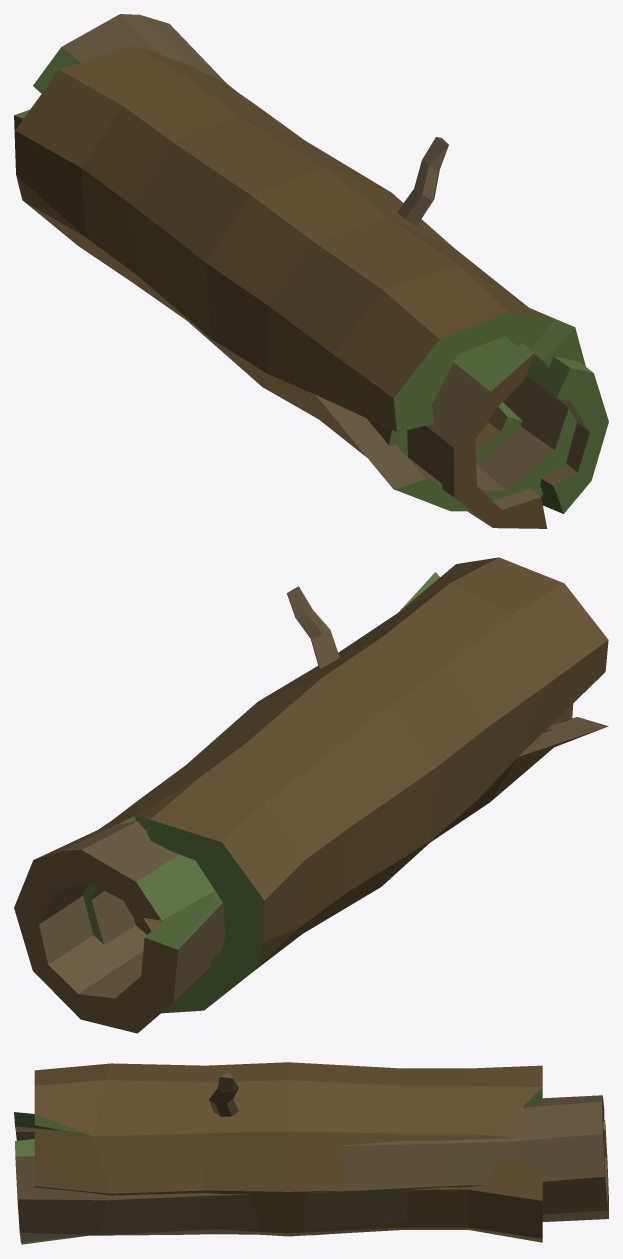
File: Log_pile.fbx
3 renders of one model, top to bottom at view 1: azimuth 30°, elevation 25°; view 2: azimuth 150°, elevation 25°; view 3: azimuth 270°, elevation 25°, orthographic. The views are drawn at different scales.
Visible parts, largest first — view 1: moss_log_1, Moss_log_2, moss_log_2; view 2: moss_log_1, Moss_log_2; view 3: moss_log_1, Moss_log_2.
Boxes of the visible parts, left/top/right/bottom form: moss_log_1: left=15, top=45, right=585, bottom=511; Moss_log_2: left=14, top=14, right=608, bottom=528; moss_log_2: left=367, top=375, right=527, bottom=463; moss_log_1: left=83, top=557, right=608, bottom=1013; Moss_log_2: left=14, top=586, right=573, bottom=1033; moss_log_1: left=34, top=1062, right=542, bottom=1242; Moss_log_2: left=14, top=1073, right=608, bottom=1244.
Bounding box in the file's own units: 53 × 60.15 × 175.
Materials: 1 (1 with a texture image).
